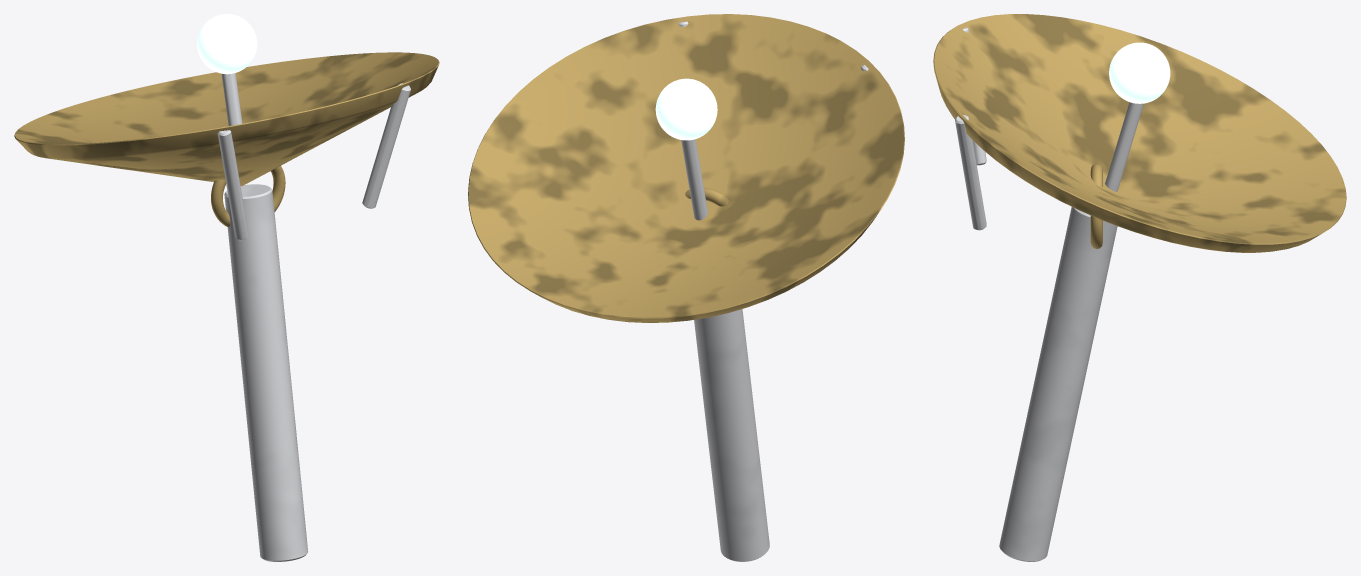
Rendered from sentry_dish.glb.
The picture shows the model from 3 angles, left to right: view 1: azimuth 30°, elevation 25°; view 2: azimuth 150°, elevation 25°; view 3: azimuth 270°, elevation 25°; orthographic projection. The views are drawn at different scales.
Visible parts, largest first — view 1: sentry_dish; view 2: sentry_dish; view 3: sentry_dish.
Boxes of the visible parts, left/top/right/bottom form: sentry_dish: left=14, top=14, right=439, bottom=561; sentry_dish: left=468, top=14, right=904, bottom=561; sentry_dish: left=933, top=14, right=1346, bottom=561.
Bounding box in the file's own units: 0.7167 × 0.917 × 0.6734.
3 materials, 2 textured.
